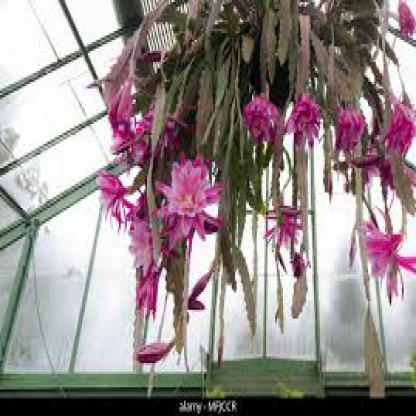Aglonema: (52, 97, 412, 256), (86, 300, 379, 416)
